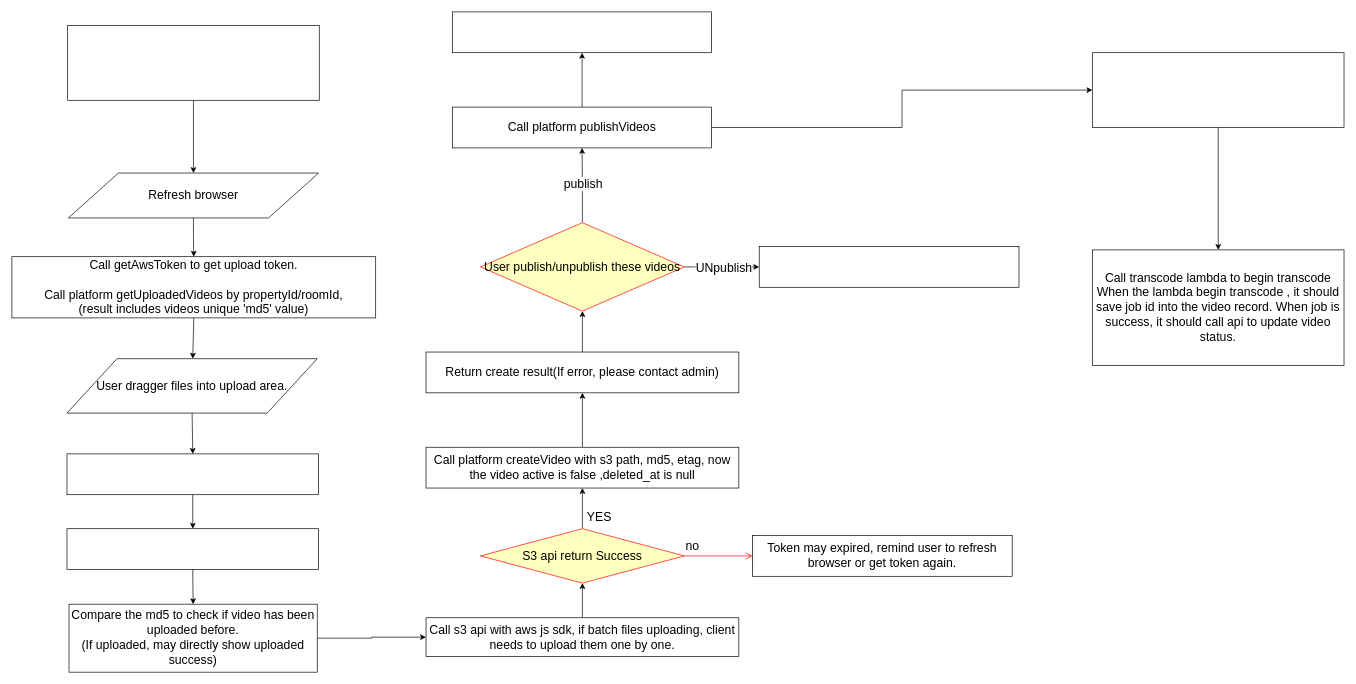
Some shapes in this 1356 by 684 pixel diagram are drawn without their labels. The centre of each missing label's shape, as x and y in pixels:
Client: the point at 193,62
Client finished.: the point at 582,32
Do nothing: the point at 889,266
Get md5 value of file: the point at 192,549
Platform: the point at 1218,90
Read files into buffer by seg: the point at 192,474
